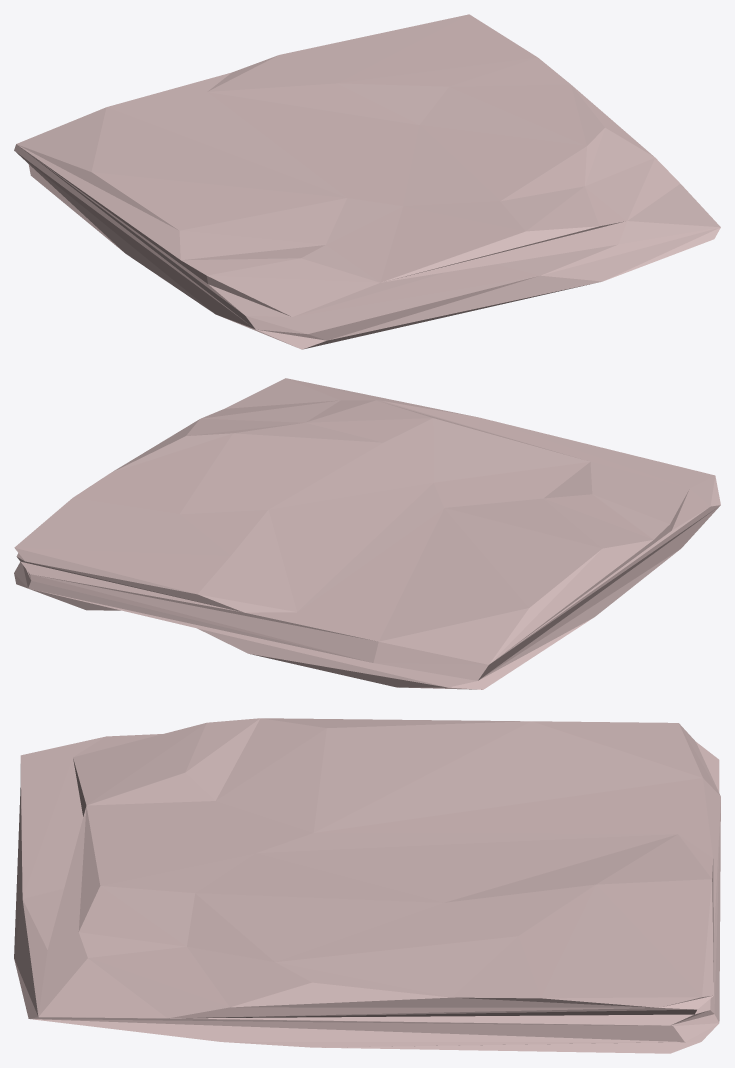
The model's file is floor1.fbx.
3 renders of one model, top to bottom at view 1: azimuth 30°, elevation 25°; view 2: azimuth 150°, elevation 25°; view 3: azimuth 270°, elevation 25°, orthographic. The views are drawn at different scales.
Parts seen in each view (by area): view 1: floor; view 2: floor; view 3: floor.
Part boxes in pixels (box(x1,y1,x2,y2)): floor: box(14, 14, 720, 349); floor: box(14, 378, 720, 689); floor: box(14, 718, 720, 1053).
Bounding box in the file's own units: 5.57 × 0.5647 × 5.71.
